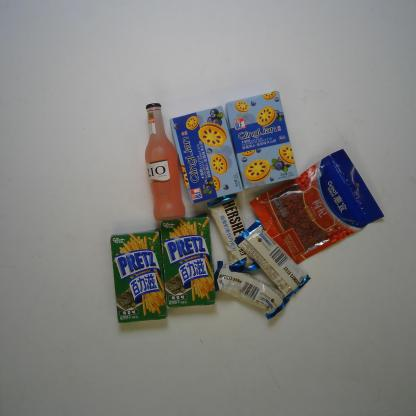Alcohol: (144, 101, 186, 223)
Chocolate: (233, 218, 312, 302), (213, 260, 290, 320), (206, 192, 262, 273)
Dessert: (223, 89, 299, 191), (168, 104, 244, 205), (108, 228, 169, 324), (158, 211, 217, 309)
Dried Fruit: (248, 147, 386, 267)
